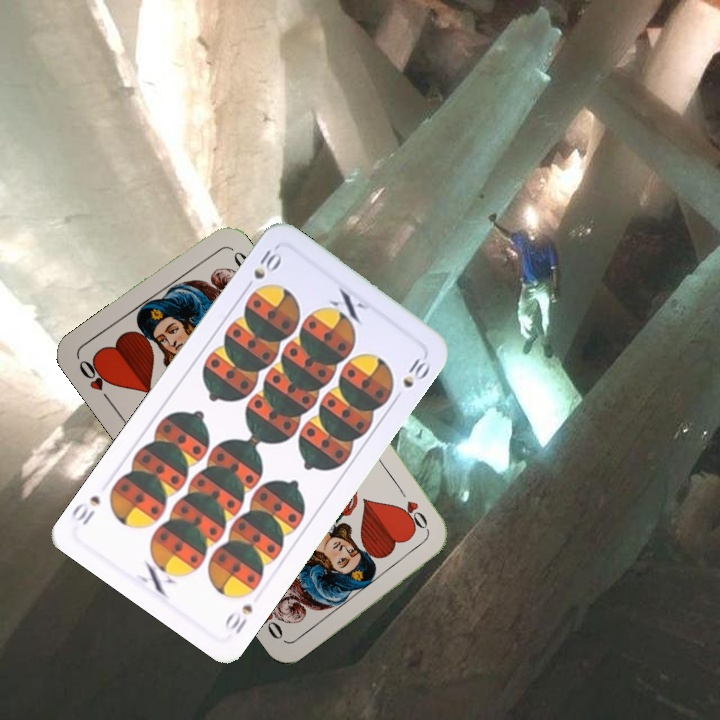HO: (74, 355, 114, 407), (393, 482, 432, 534)
S10: (240, 243, 285, 294), (220, 600, 256, 637)
